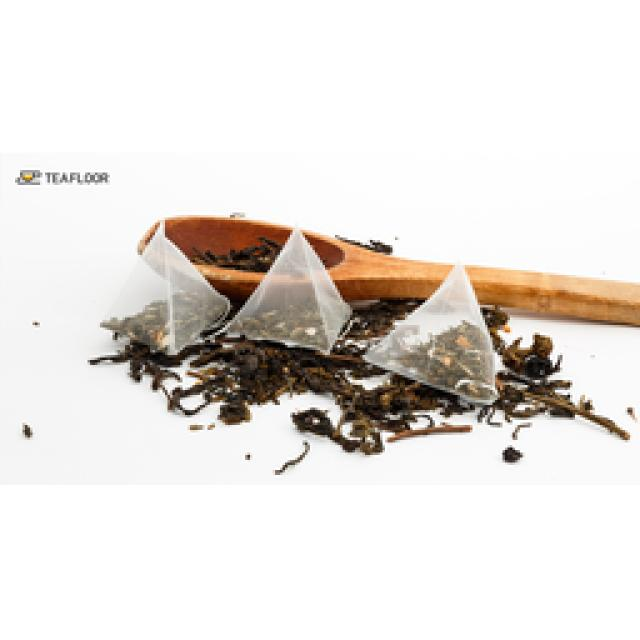tea-bags: (365, 262, 495, 402), (102, 220, 228, 352), (225, 228, 350, 352)
